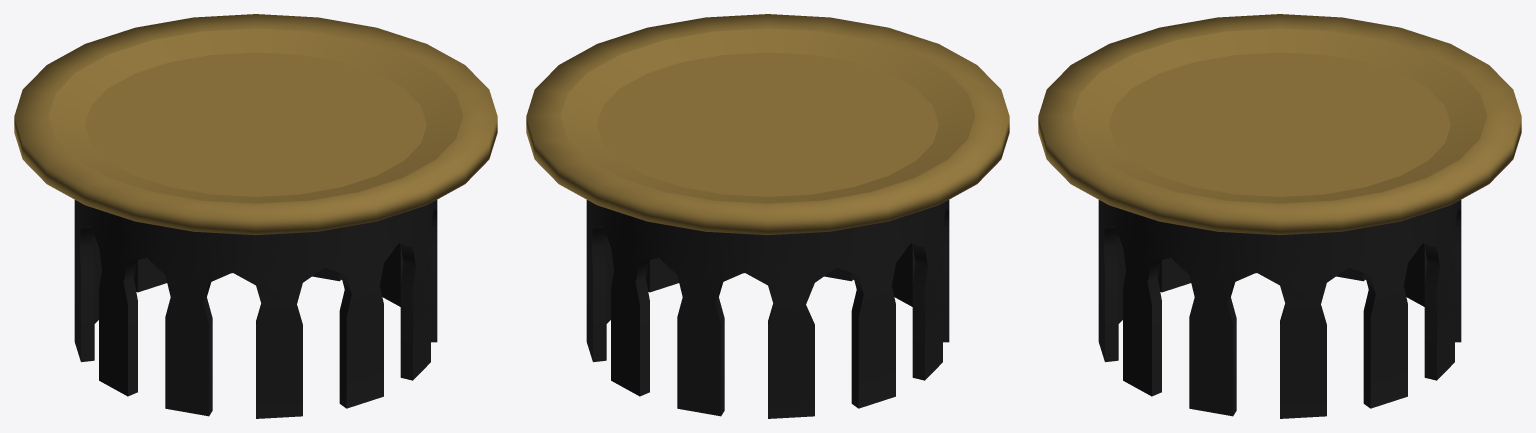
Rendered from DI_028_table.glb.
The picture shows the model from 3 angles, left to right: view 1: azimuth 30°, elevation 25°; view 2: azimuth 150°, elevation 25°; view 3: azimuth 270°, elevation 25°; orthographic projection.
Parts seen in each view (by area): view 1: TableTop, Feet; view 2: TableTop, Feet; view 3: TableTop, Feet.
Part boxes in pixels (x1,y1,x2,y2): TableTop: [14, 14, 497, 235]; Feet: [74, 200, 437, 418]; TableTop: [526, 14, 1009, 235]; Feet: [586, 200, 949, 418]; TableTop: [1038, 14, 1521, 235]; Feet: [1098, 200, 1461, 418].
Bounding box in the file's own units: 1.5 × 0.7752 × 1.5.
